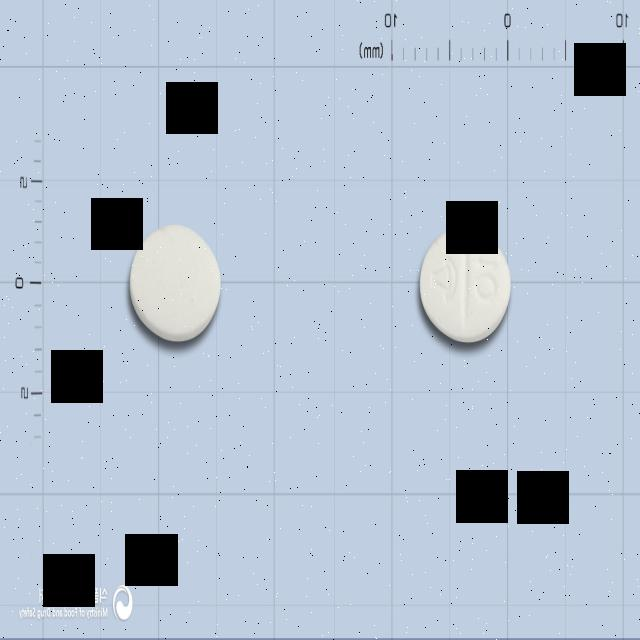CLARITYNE: (415, 214, 516, 355), (127, 217, 222, 348)
